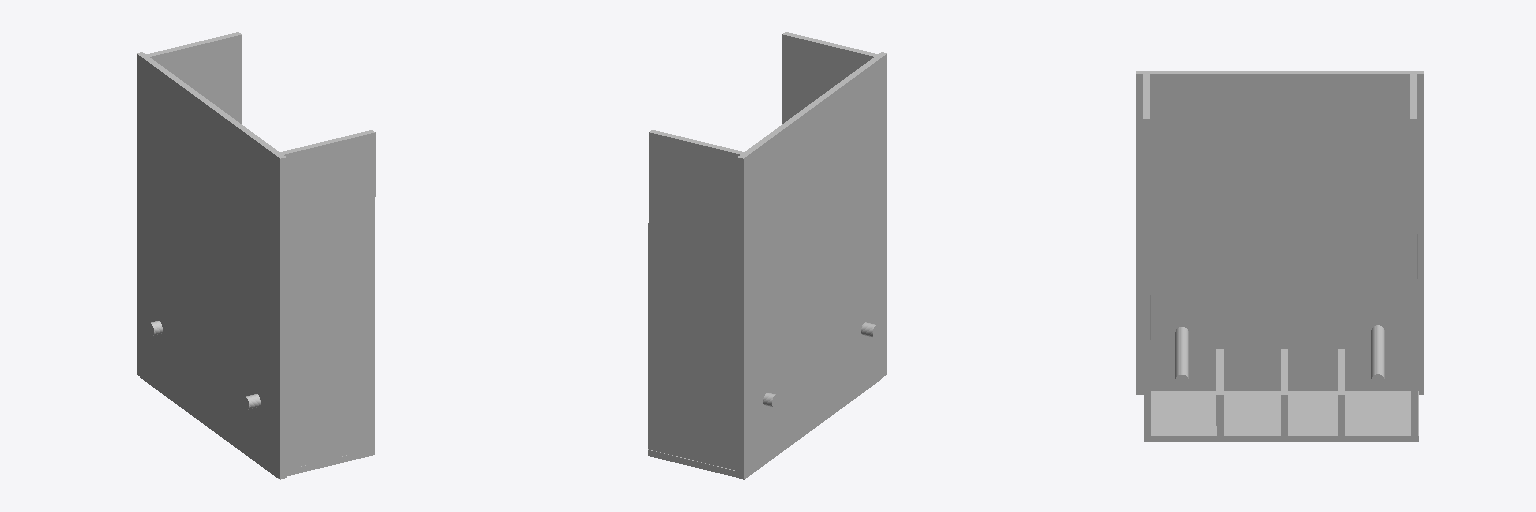
The model's file is main.obj.
The picture shows the model from 3 angles: view 1: azimuth 30°, elevation 25°; view 2: azimuth 150°, elevation 25°; view 3: azimuth 270°, elevation 25°; orthographic projection.
Visible parts, largest first — view 1: Cube.013, Cube.001, Cube.012, Cube.002; view 2: Cube.013, Cube.012, Cube.001, Cube.008; view 3: Cube.013, Cube.002, Cube.008, Cube.001, Cube.012, Cube.005, Cube.011, Cylinder.023, Cylinder.010, Cube.007, Cube.009.
Boxes of the visible parts, box(x1,y1,x2,y2) form: Cube.013: box(137, 52, 286, 479); Cube.001: box(275, 130, 375, 469); Cube.012: box(142, 32, 241, 123); Cube.002: box(241, 449, 374, 478); Cube.013: box(737, 52, 886, 479); Cube.012: box(648, 130, 746, 470); Cube.001: box(782, 32, 879, 123); Cube.008: box(648, 447, 788, 479); Cube.013: box(1136, 71, 1423, 394); Cube.002: box(1144, 391, 1233, 441); Cube.008: box(1329, 391, 1418, 441); Cube.001: box(1143, 72, 1150, 439); Cube.012: box(1410, 72, 1417, 439); Cube.005: box(1225, 391, 1281, 441); Cube.011: box(1287, 391, 1344, 441); Cylinder.023: box(1371, 325, 1384, 385); Cylinder.010: box(1175, 327, 1188, 386); Cube.007: box(1281, 349, 1287, 441); Cube.009: box(1338, 349, 1344, 441).
Size of the model in its own units: 2.39 by 6.28 by 5.07.